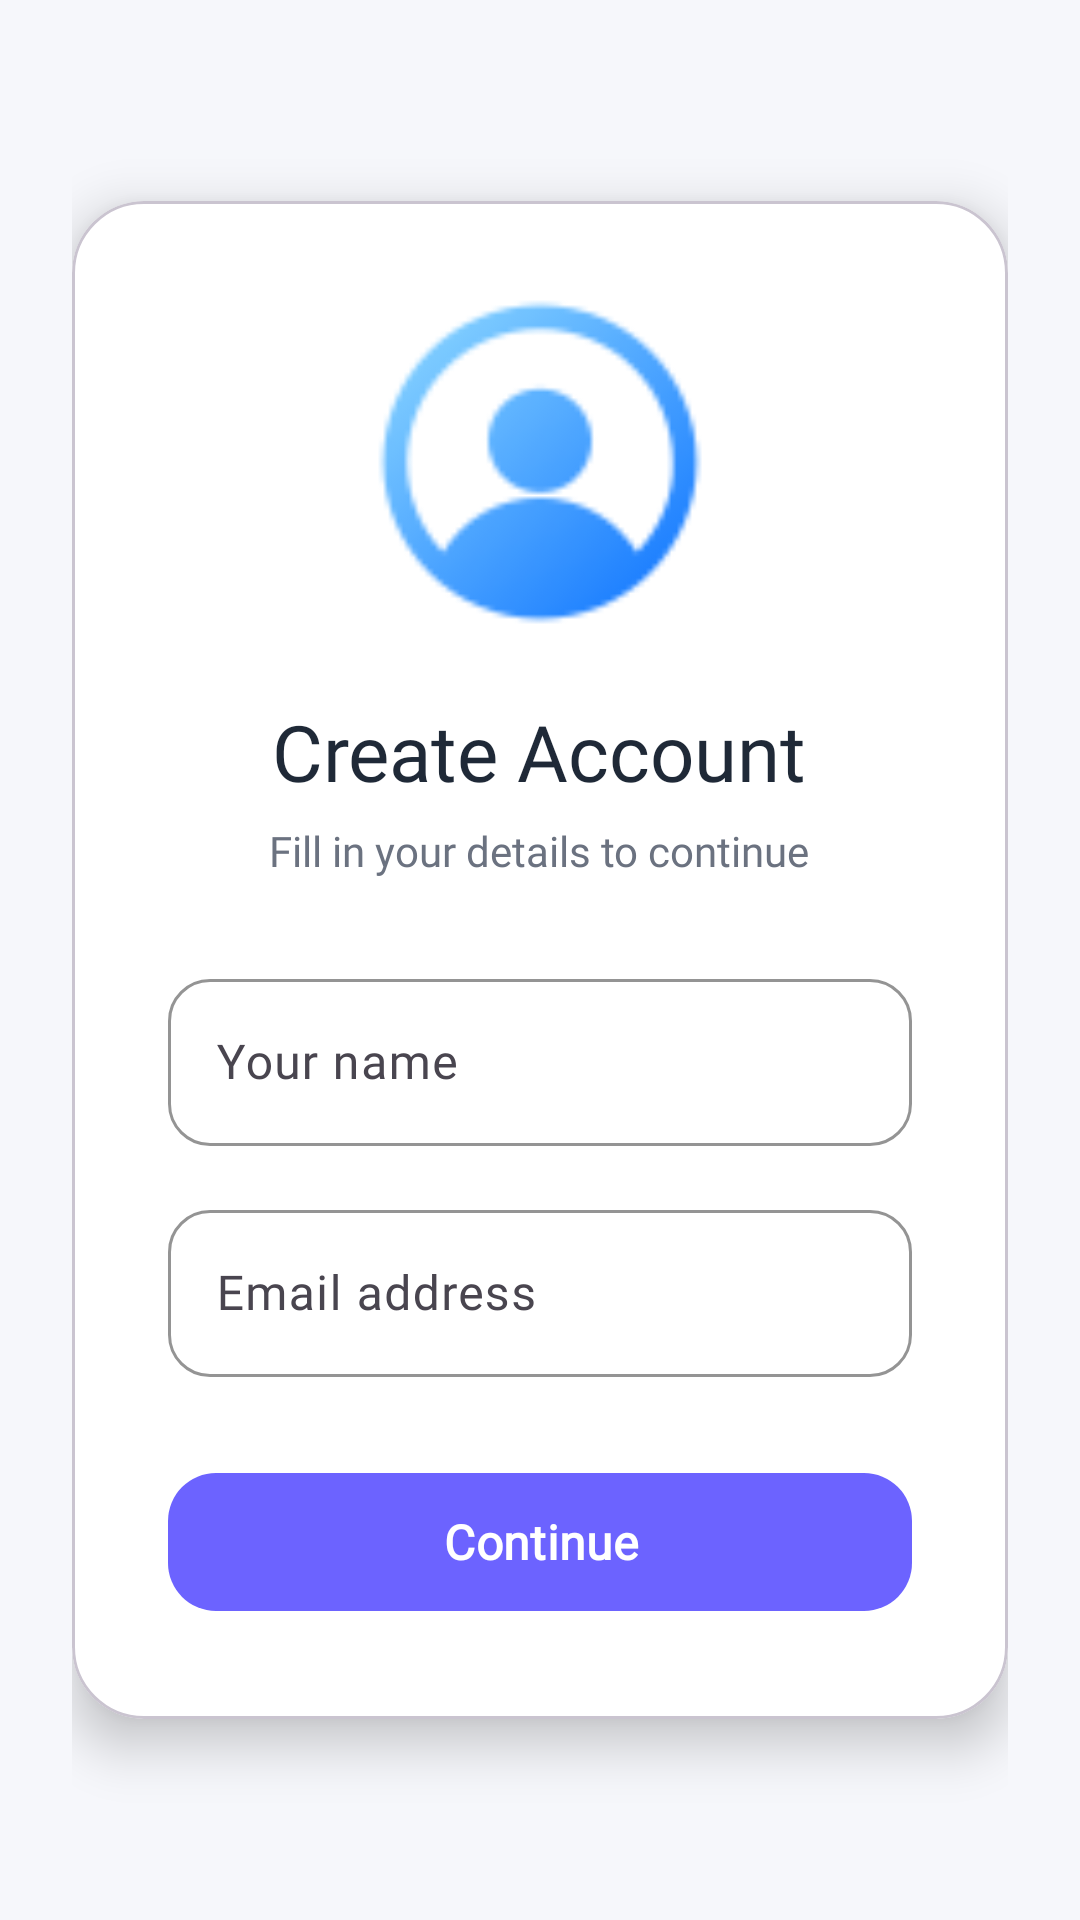

Where icons sit on this 1080 × 1920 app screen, as box=[x1, y1, x2, y2]:
profile: box=[380, 302, 701, 623]
